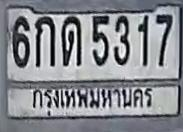1: (137, 15, 148, 66)
3: (113, 15, 129, 65)
5: (92, 15, 108, 65)
6: (11, 15, 29, 67)
7: (155, 14, 172, 65)
A01: (34, 16, 54, 66)
A20: (61, 15, 83, 67)
BKK: (27, 84, 157, 116)
